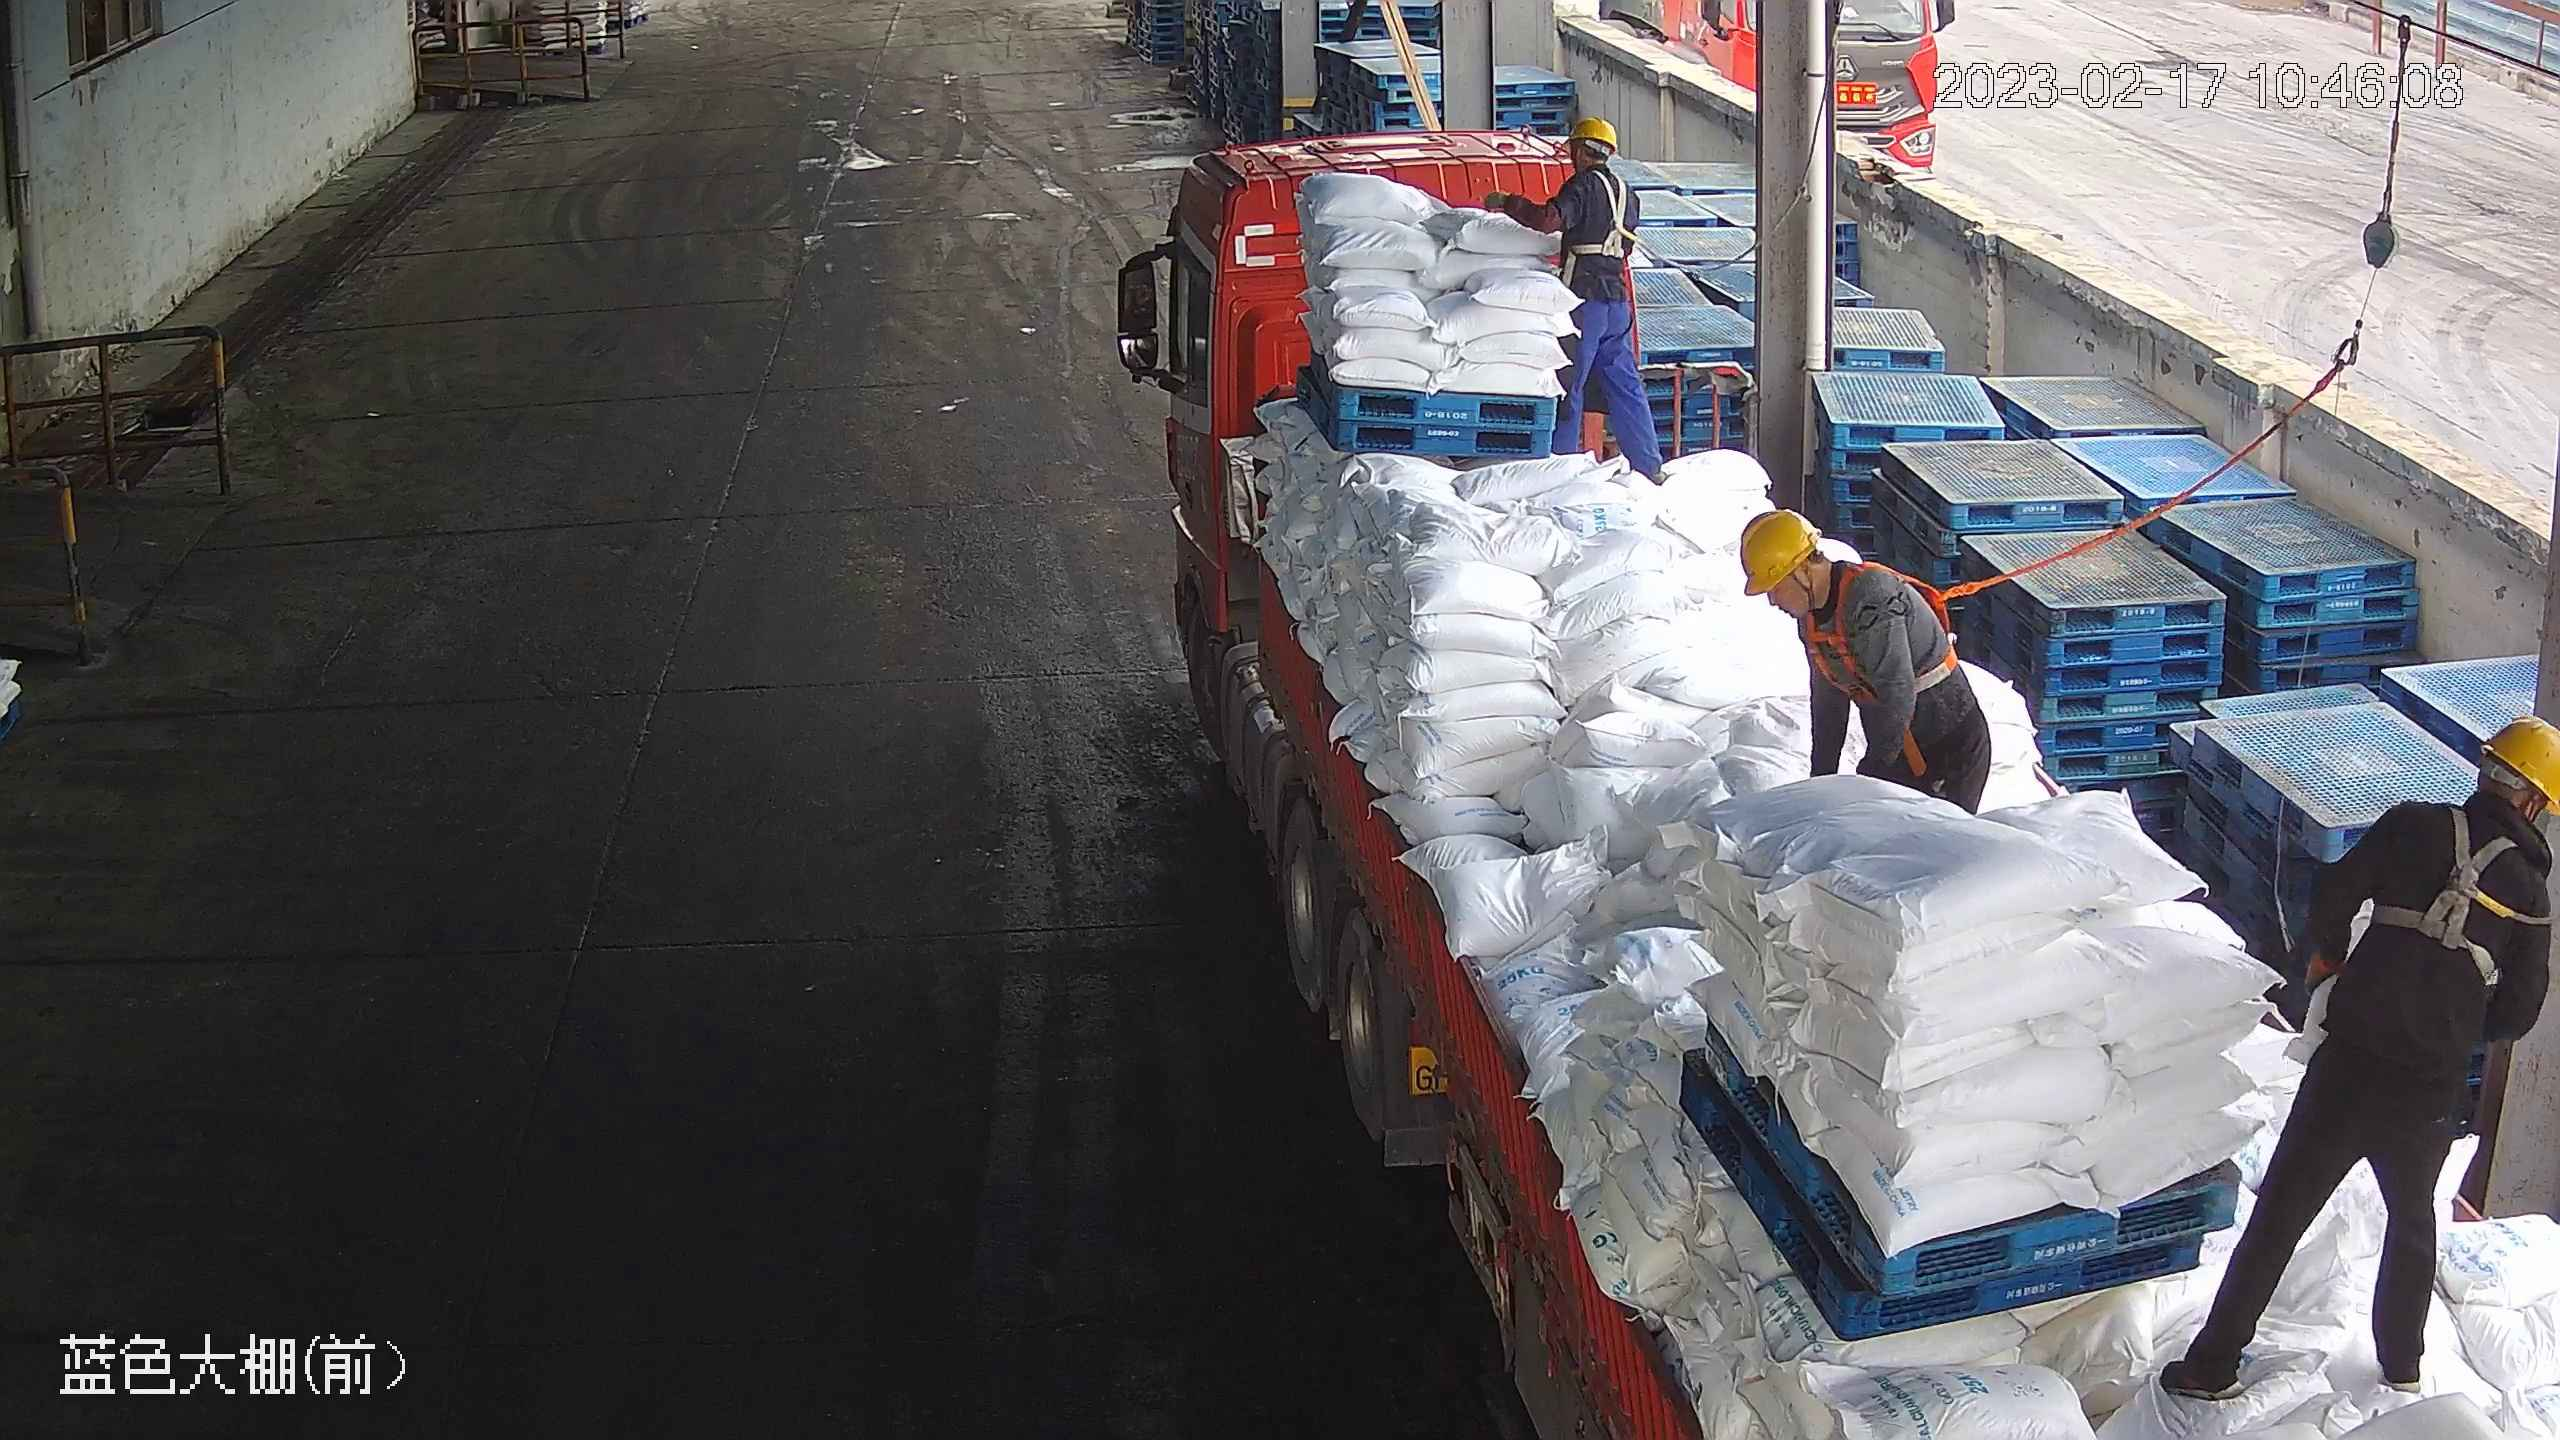belt: (2357, 800, 2520, 991), (1796, 559, 1978, 706), (1557, 169, 1654, 271)
head: (2334, 717, 2560, 928), (1740, 510, 1917, 696), (1523, 120, 1645, 230)
helmet: (2484, 717, 2560, 811), (1740, 512, 1817, 600), (1566, 120, 1618, 154)
people: (2154, 713, 2560, 1400), (1739, 513, 1995, 822), (1486, 120, 1674, 486)
truck: (1110, 130, 2560, 1440)
